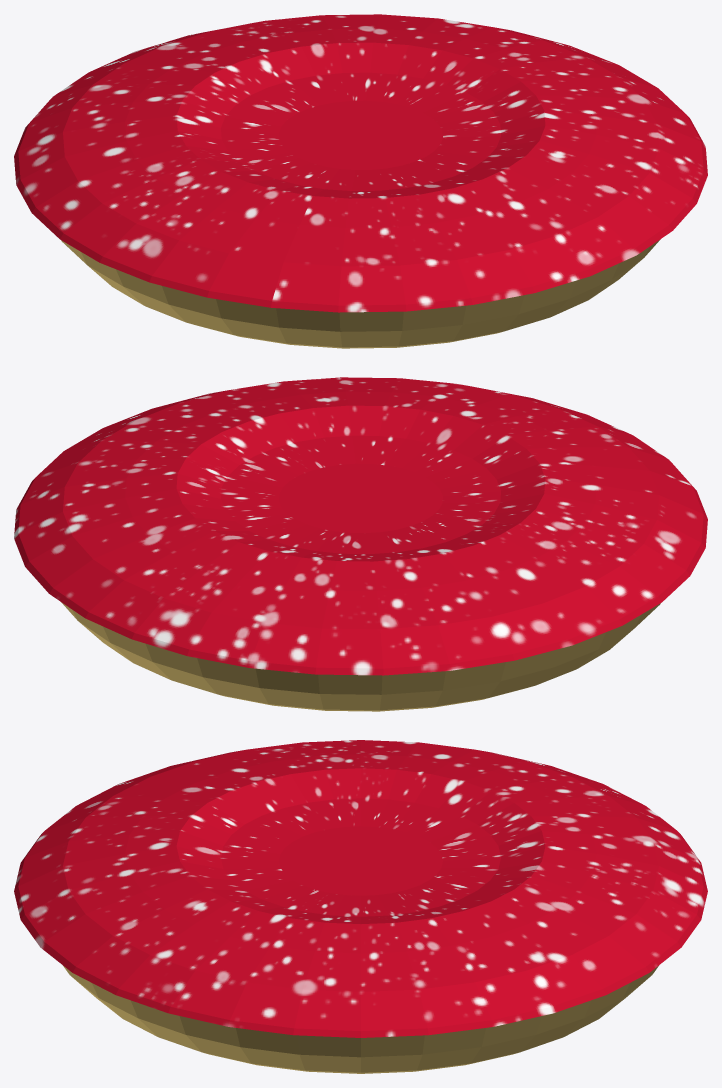
File: mushroom.fbx
3 views of the same model, one above another, from view 1: azimuth 30°, elevation 25°; view 2: azimuth 150°, elevation 25°; view 3: azimuth 270°, elevation 25° (orthographic).
Visible parts, largest first — view 1: mushroom; view 2: mushroom; view 3: mushroom.
Boxes of the visible parts, x1,y1,x2,y2 form: mushroom: [14, 14, 707, 348]; mushroom: [14, 377, 707, 711]; mushroom: [14, 740, 707, 1073].
Bounding box in the file's own units: 855 × 180 × 855.
1 material, 1 textured.
